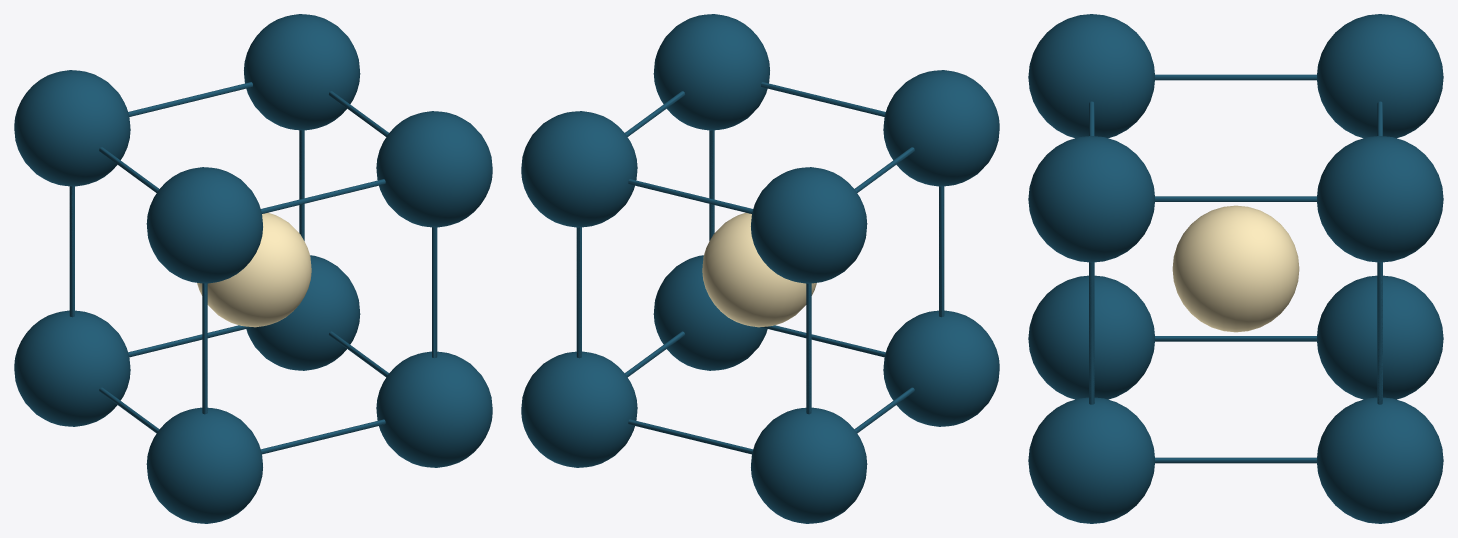
The model's file is jingbao2-A.gltf.
3 views of the same model, side by side, from view 1: azimuth 30°, elevation 25°; view 2: azimuth 150°, elevation 25°; view 3: azimuth 270°, elevation 25° (orthographic). The views are drawn at different scales.
Visible parts, largest first — view 1: 1, 2; view 2: 1, 2; view 3: 1, 2.
Part boxes in pixels (left/top/right/bottom): 1: left=14, top=14, right=492, bottom=523; 2: left=197, top=213, right=311, bottom=327; 1: left=521, top=14, right=999, bottom=523; 2: left=702, top=213, right=816, bottom=327; 1: left=1028, top=14, right=1443, bottom=523; 2: left=1172, top=205, right=1299, bottom=332.
Bounding box in the file's own units: 72 × 72 × 72.
2 materials, 2 textured.
